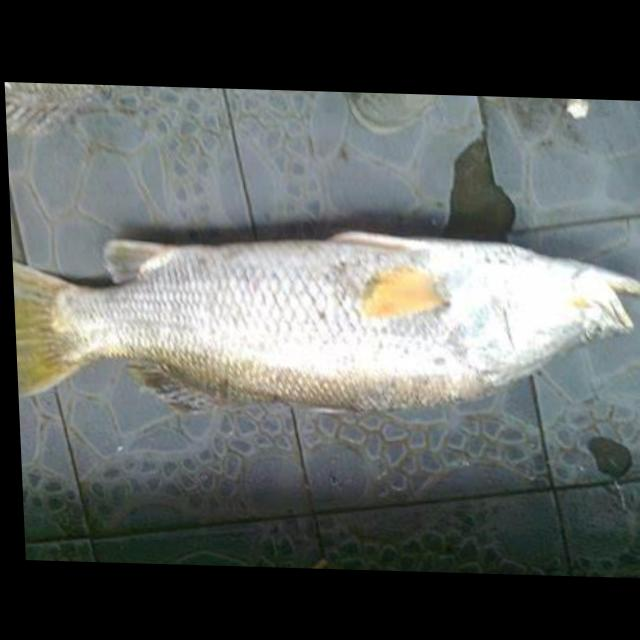Seabass: (10, 222, 640, 421)
